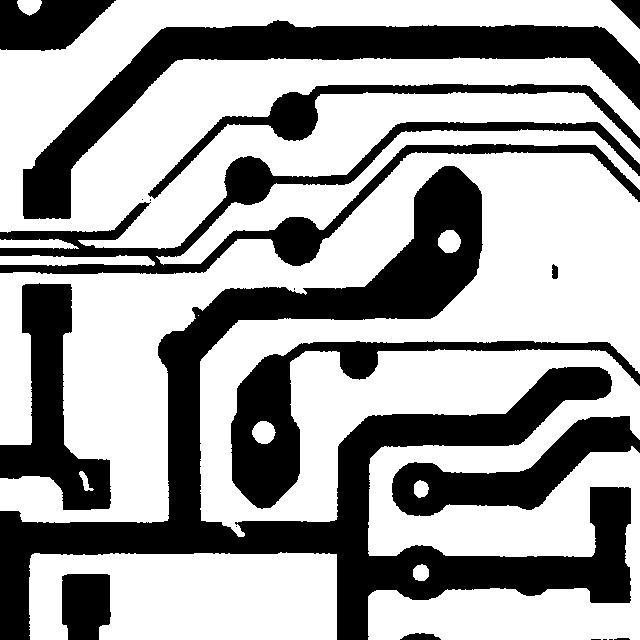copper: (542, 254, 567, 288)
mousebite: (212, 511, 254, 546), (277, 274, 316, 304)
open: (128, 184, 166, 212)
pin-hole: (69, 461, 103, 500)
short: (51, 226, 104, 262), (137, 241, 170, 276)
spur: (182, 297, 212, 328)
